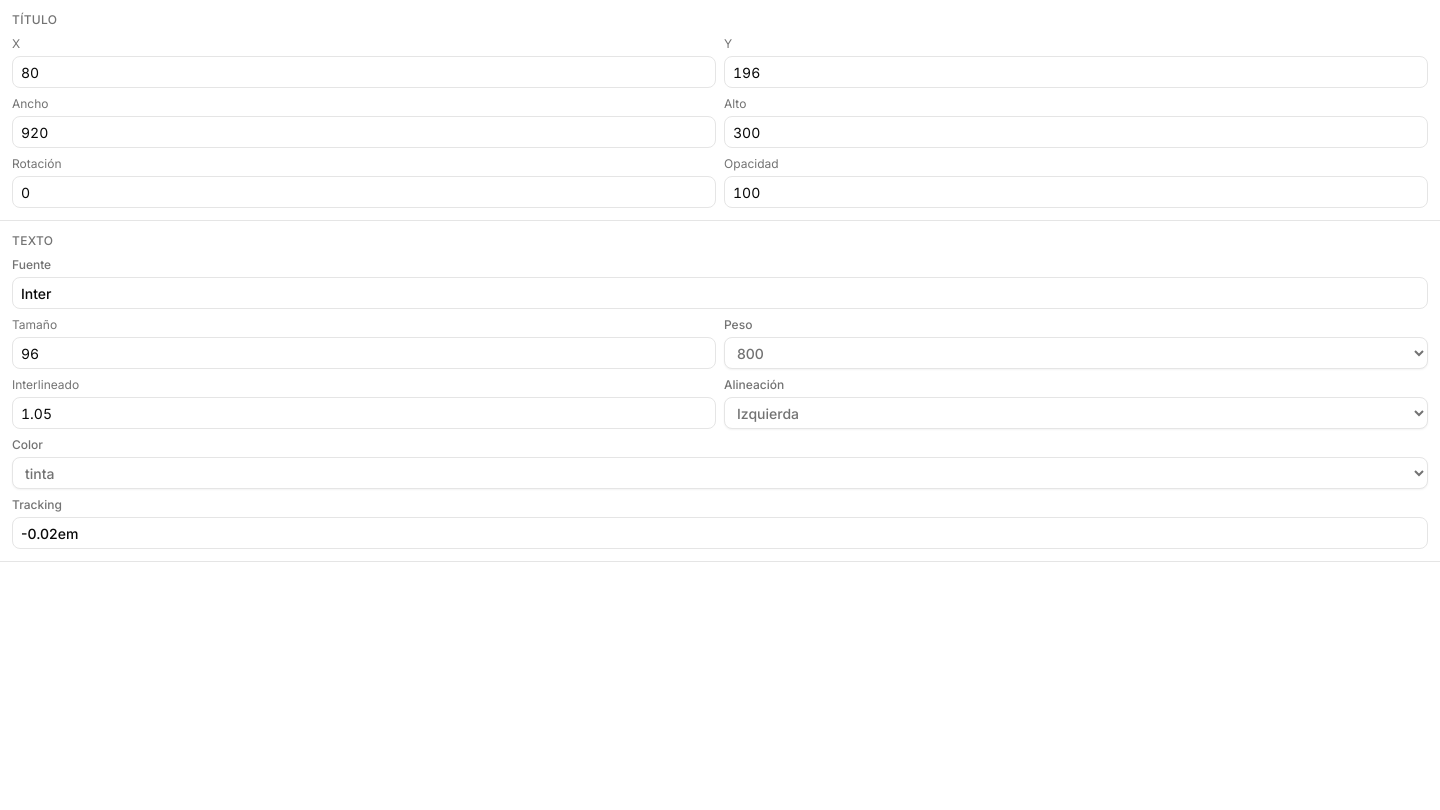
Test: PanelPropiedades › un valor inválido regresa sin paso
Clear the number field labelled "Ancho" at [364, 132], box [12, 116, 716, 148]
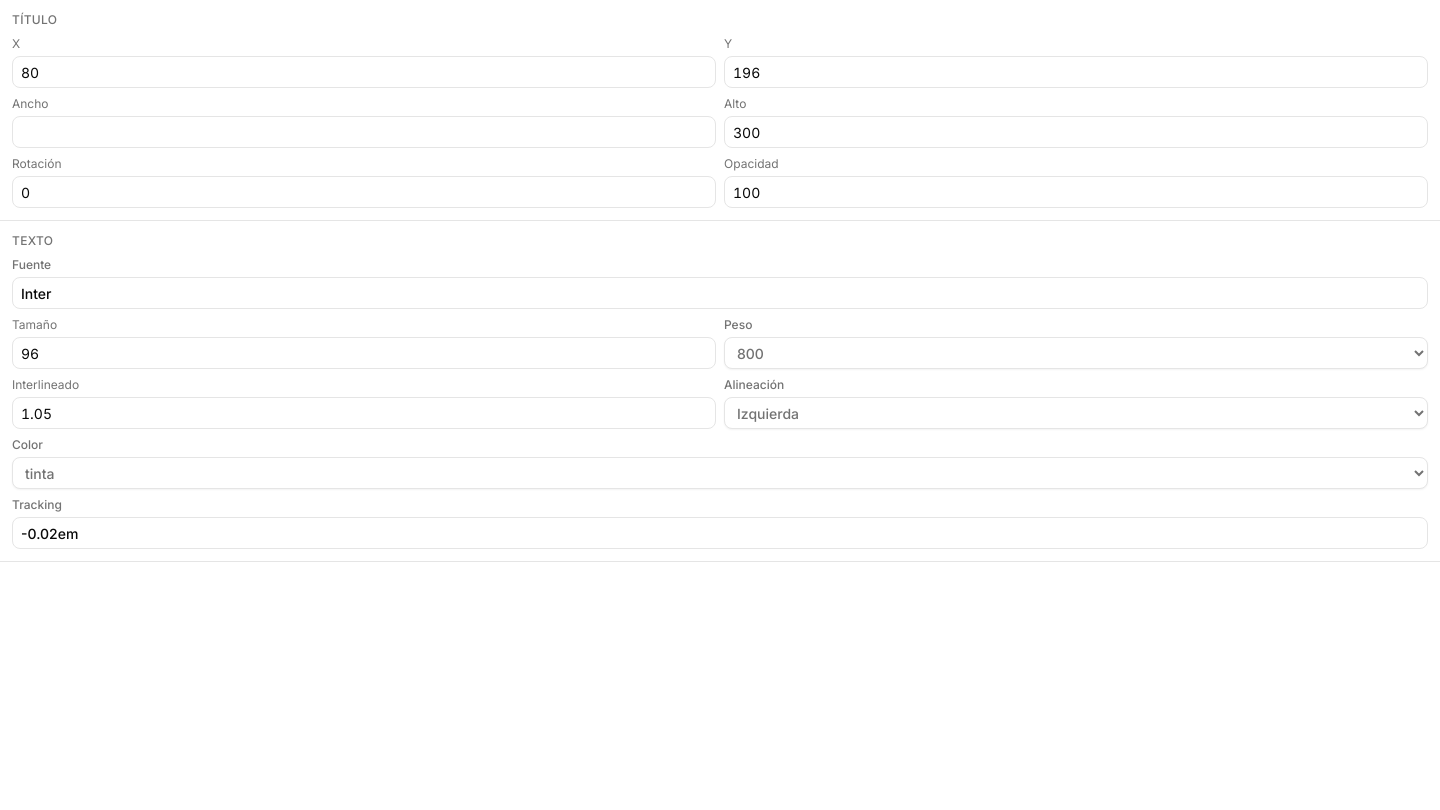
Leave the number field labelled "Ancho", box [12, 116, 716, 148]
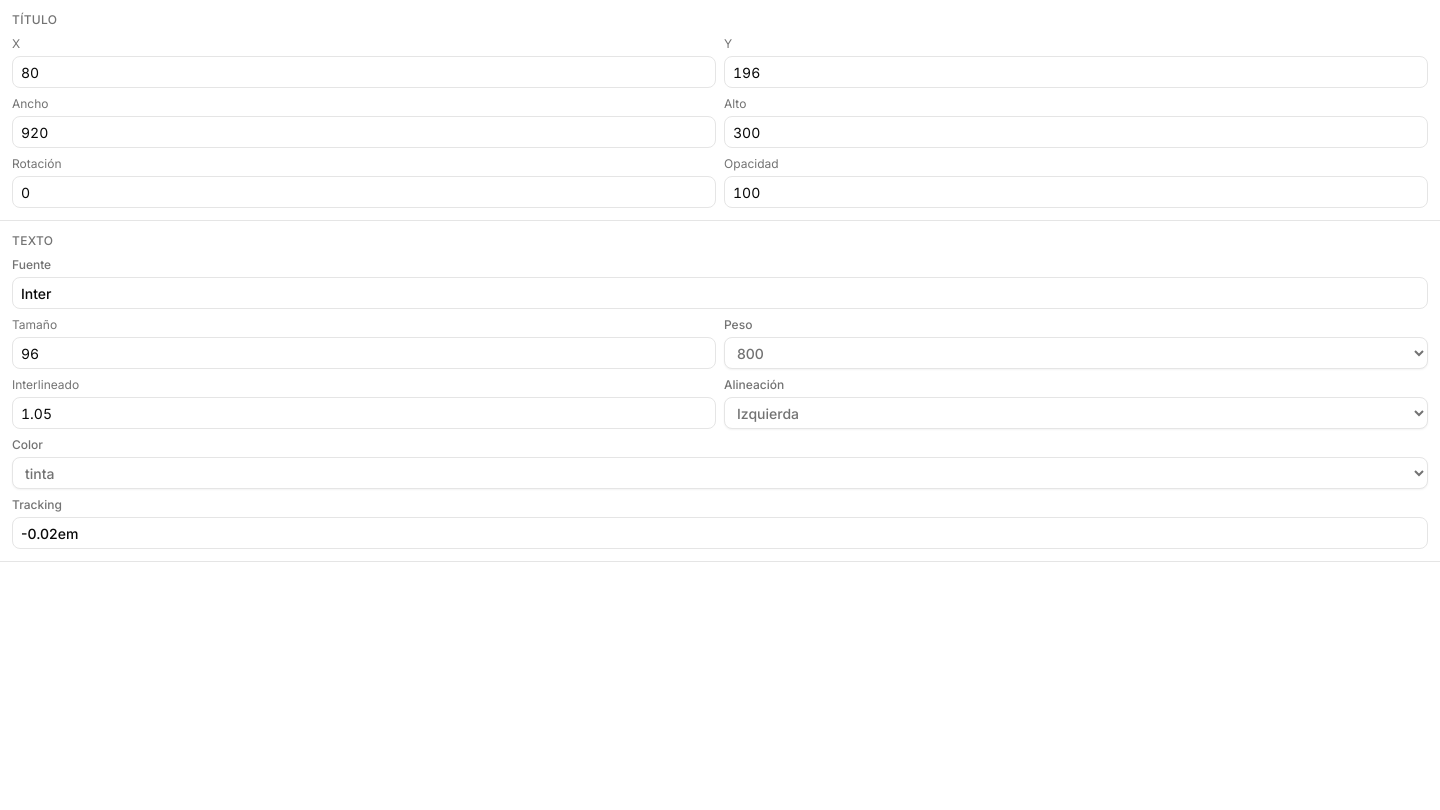
Expected: the number field labelled "Ancho" holds "920", [12, 116, 716, 148]
